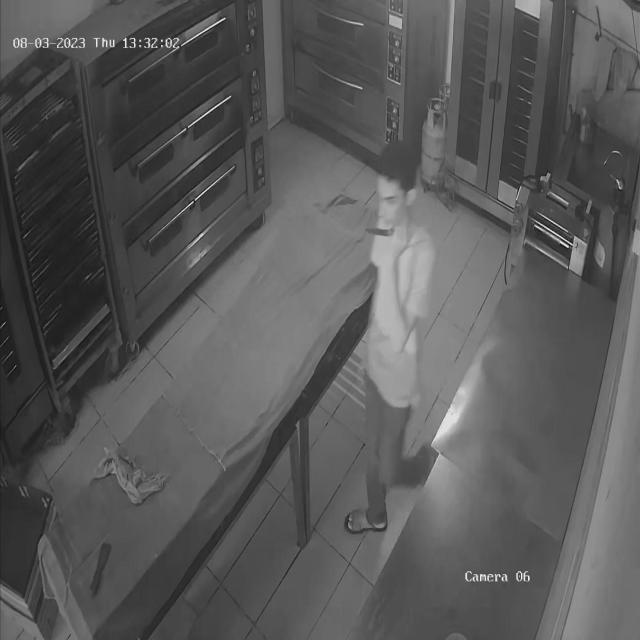Knife: (358, 217, 414, 246)
